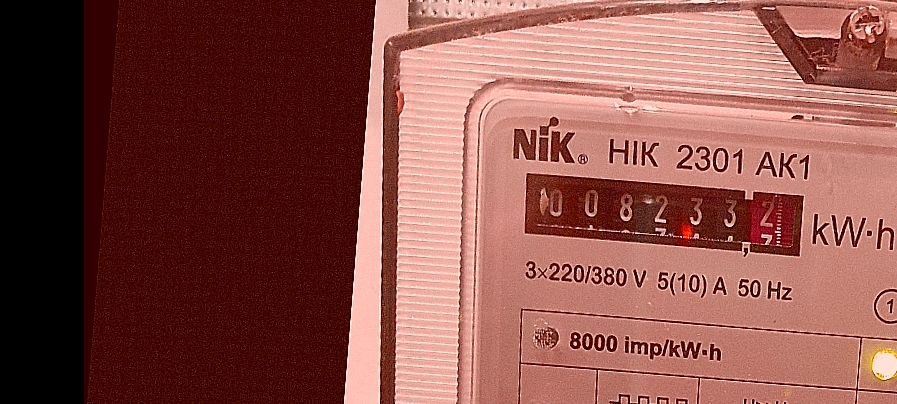0: (545, 185, 568, 218), (581, 186, 602, 219)
2: (650, 192, 673, 225), (758, 196, 778, 229)
3: (687, 194, 707, 227), (722, 196, 741, 228)
8: (617, 190, 637, 223)
screen: (511, 160, 818, 266)
